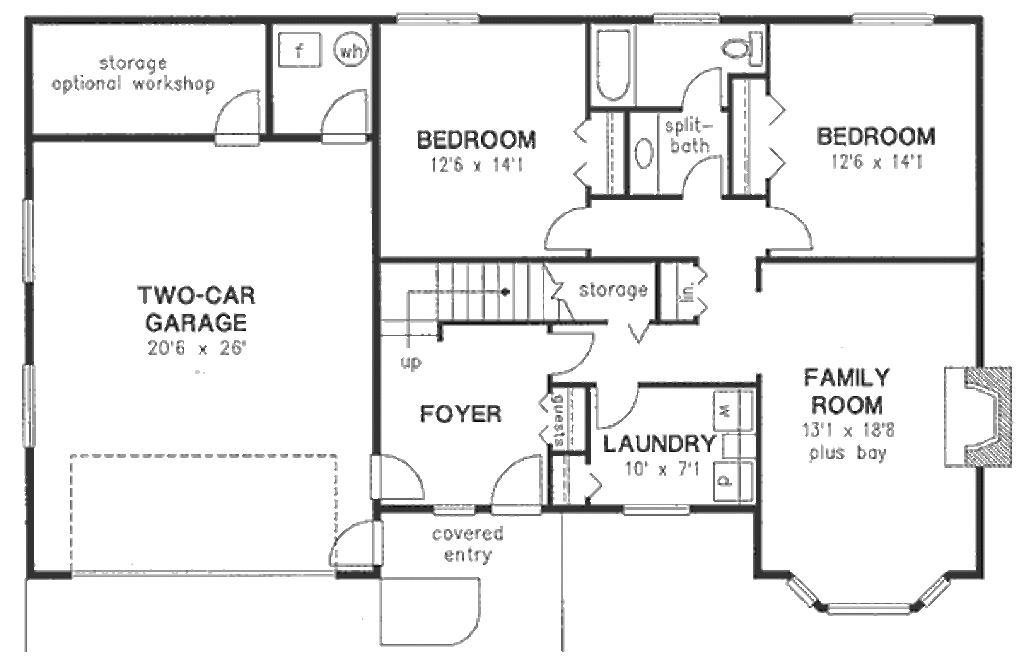door: (203, 83, 261, 152), (358, 450, 428, 507), (487, 448, 543, 518), (757, 207, 829, 260), (319, 516, 389, 566), (318, 82, 371, 145), (543, 206, 604, 253), (678, 57, 727, 112), (545, 331, 601, 375), (595, 382, 643, 431), (678, 153, 725, 203)
large_sink: (718, 24, 769, 69)
small_sink: (630, 112, 657, 197)
stairs: (377, 256, 561, 347)
tub: (591, 20, 631, 114)
window: (846, 4, 939, 30), (822, 599, 918, 622), (916, 563, 955, 615), (17, 195, 39, 286), (391, 9, 487, 29), (784, 569, 825, 610), (22, 363, 40, 454), (619, 500, 691, 520), (649, 8, 721, 24), (427, 500, 480, 520)
